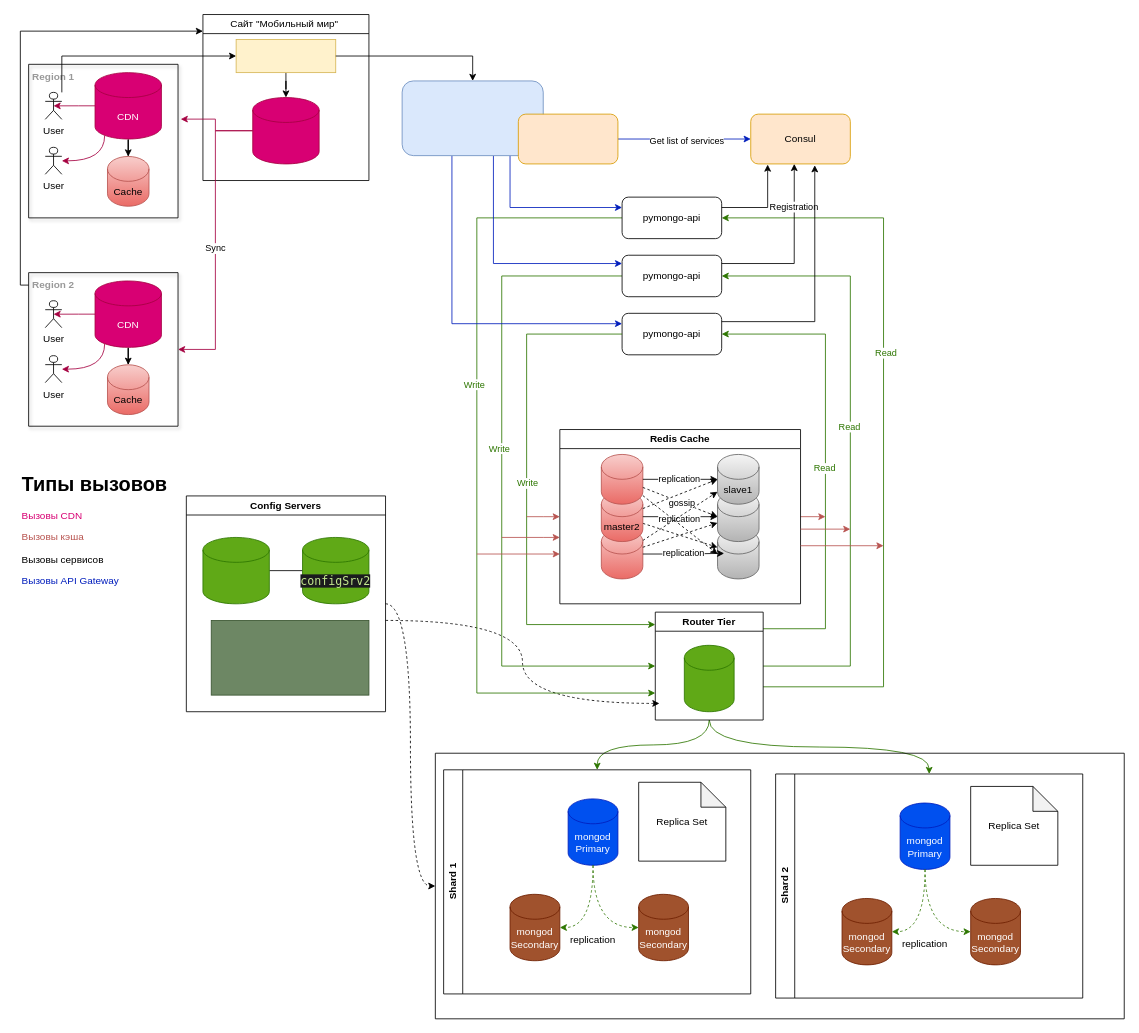
This 1139x1033 diagram has some shape labels left out. Here are the shapes that lost their labels. From the top down, the centre of each, then its label:
At [285,56]: "Front End".
At [285,130]: "Main static content".
At [472,118]: "APISIX Gateway".
At [568,138]: "consul_kv".
At [622,479]: "master1".
At [738,516]: "slave2".
At [235,570]: "configSrv1".
At [622,553]: "master3".
At [738,553]: "slave3".
At [289,657]: "hash(name) ==> Shard 1 hash(name) ==> Shard 2".
At [709,678]: "mongos".
